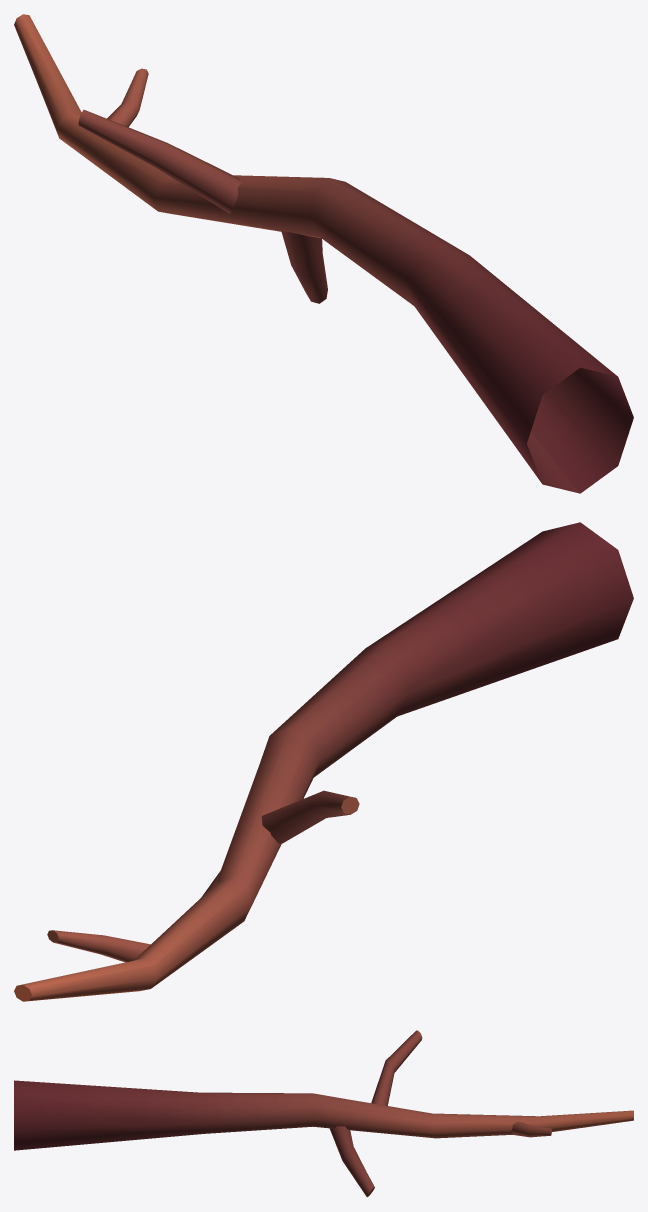
The model's file is Tree 05.FBX.
The picture shows the model from 3 angles, top to bottom: view 1: azimuth 30°, elevation 25°; view 2: azimuth 150°, elevation 25°; view 3: azimuth 270°, elevation 25°; orthographic projection. The views are drawn at different scales.
Parts seen in each view (by area): view 1: Tree 05; view 2: Tree 05; view 3: Tree 05.
Boxes of the visible parts, x1,y1,x2,y2 form: Tree 05: (14,14,633,493); Tree 05: (14,522,633,1001); Tree 05: (14,1030,633,1197).
Size of the model in its own units: 91.22 by 426 by 87.28.
Materials: 1 (1 with a texture image).
